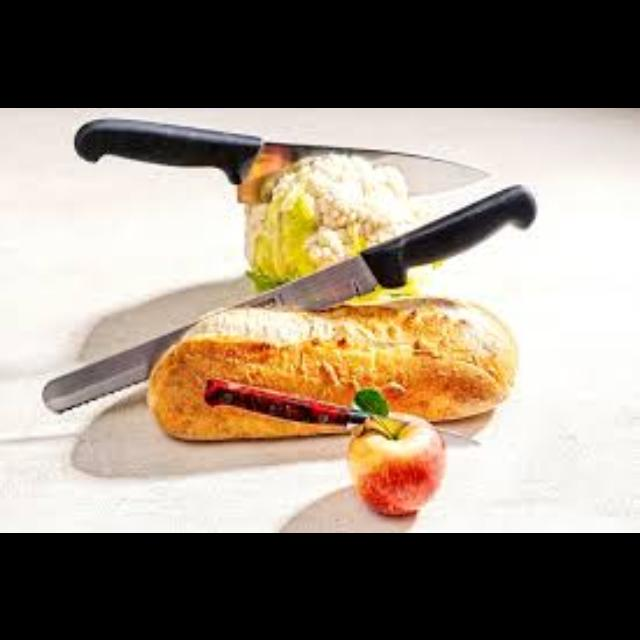knife: (40, 182, 538, 412), (73, 114, 491, 196)
